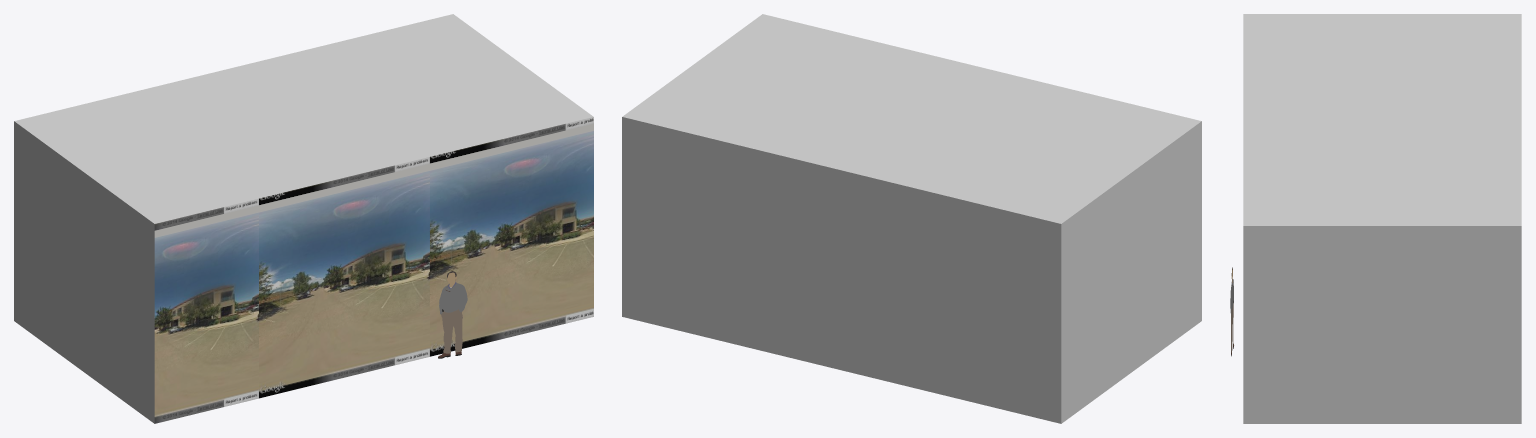
Rendered from block.dae.
The picture shows the model from 3 angles, left to right: view 1: azimuth 30°, elevation 25°; view 2: azimuth 150°, elevation 25°; view 3: azimuth 270°, elevation 25°; orthographic projection.
Parts seen in each view (by area): view 1: SketchUp (×2), Derrick (×2); view 2: SketchUp; view 3: SketchUp.
Part boxes in pixels (x1=…): SketchUp (×2): x1=14, y1=14, x2=593, y2=423; Derrick (×2): x1=439, y1=283, x2=467, y2=353; SketchUp: x1=622, y1=14, x2=1201, y2=423; SketchUp: x1=1243, y1=14, x2=1521, y2=423.
Size of the model in its own units: 370 by 215 by 161.
Materials: 10 (1 with a texture image).
